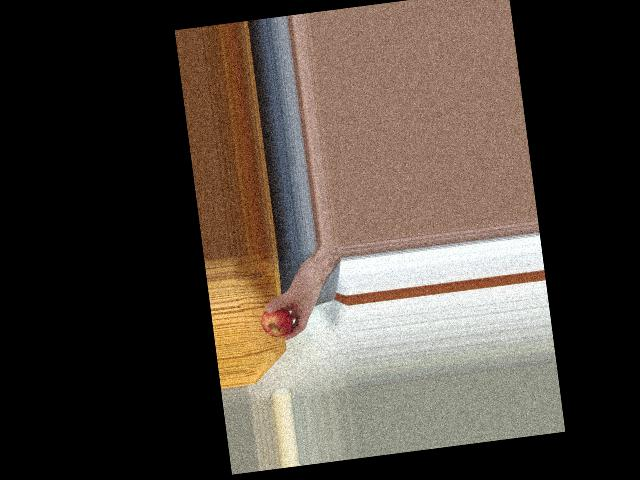apple: (258, 301, 294, 339)
